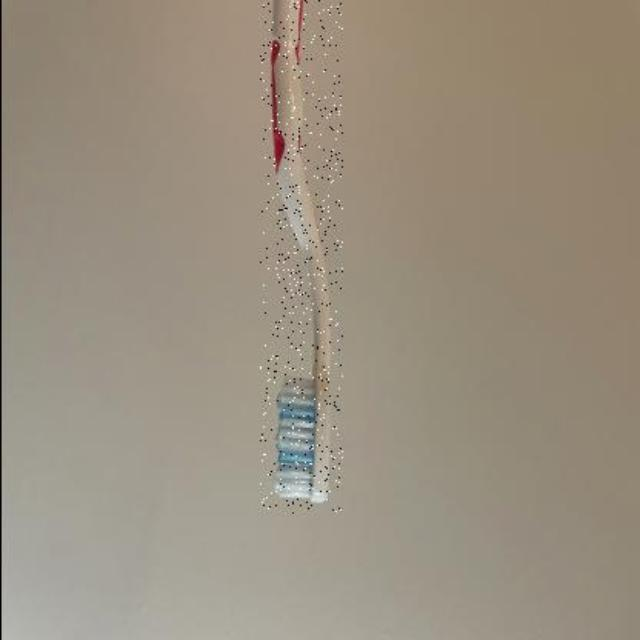toothbrush: (258, 1, 340, 514)
